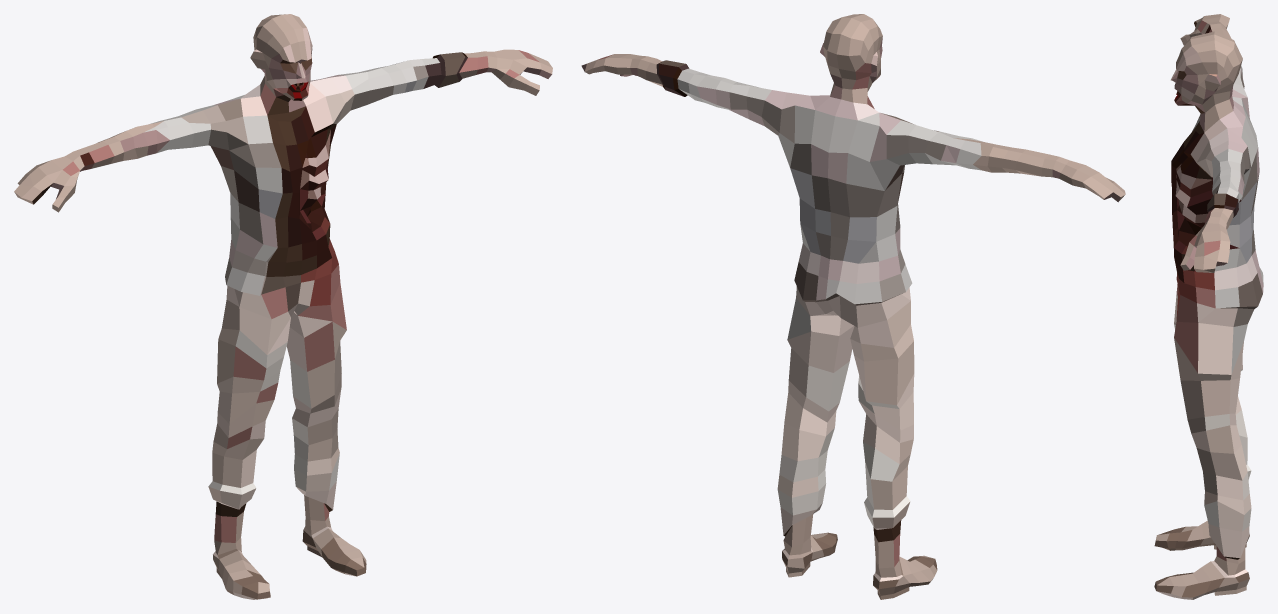
The model's file is ZombieX.fbx.
3 views of the same model, side by side, from view 1: azimuth 30°, elevation 25°; view 2: azimuth 150°, elevation 25°; view 3: azimuth 270°, elevation 25° (orthographic). The views are drawn at different scales.
Visible parts, largest first — view 1: lpMale_zombie_B; view 2: lpMale_zombie_B; view 3: lpMale_zombie_B.
Part boxes in pixels (box(x1,y1,x2,y2)): lpMale_zombie_B: box(14, 14, 552, 599); lpMale_zombie_B: box(581, 14, 1125, 599); lpMale_zombie_B: box(1154, 14, 1263, 599).
Bounding box in the file's own units: 183 × 181 × 33.5.
